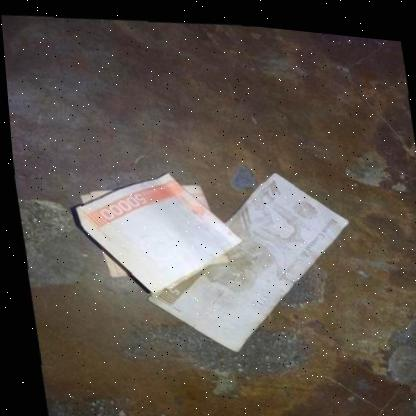five-back-vef: (122, 150, 366, 365)
